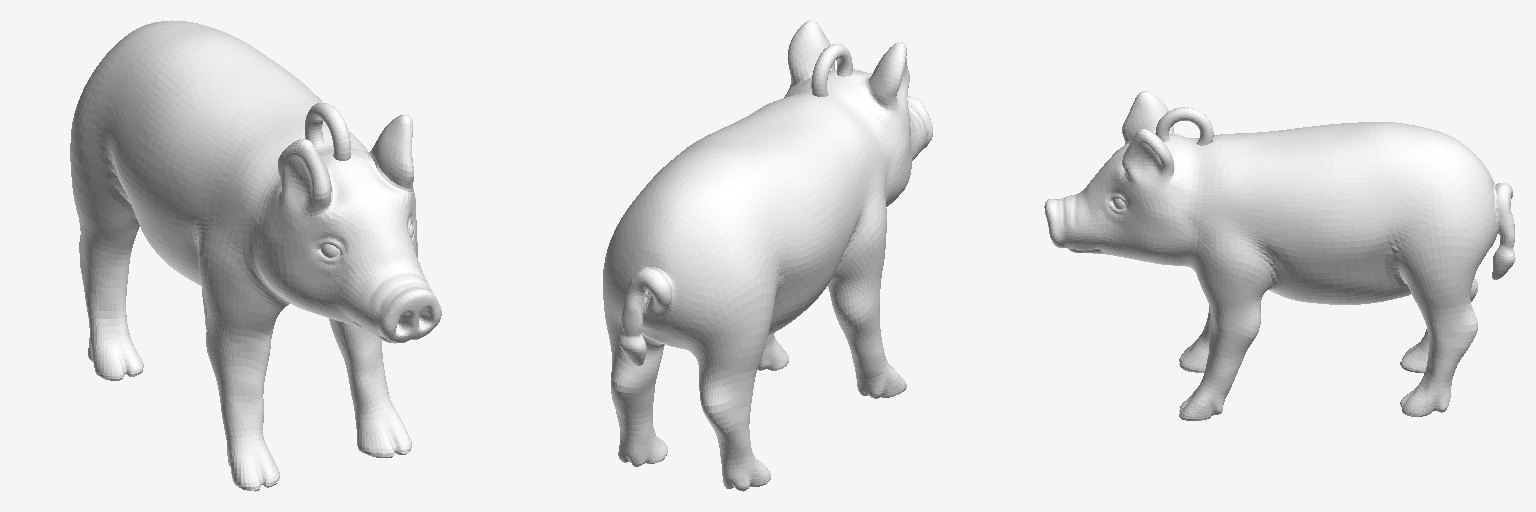
URDF robot description (simple_pig2.obj):
<robot name="simple_pig2.obj">
	<link name="_name">
		<visual>
			<origin xyz="0 0 0" rpy="0 0 0" />
			<geometry>
				<mesh filename="simple_pig2.obj" scale="1.0 1.0 1.0" />
			</geometry>
			<material name="texture">
				<color rgba="1.0 1.0 1.0 1.0" />
			</material>
		</visual>
		<collision>
			<geometry>
				<mesh filename="simple_pig2_vhacd.obj" scale="1.0 1.0 1.0" />
			</geometry>
		</collision>
		<inertial>
			<mass value="1.0" />
			<inertia ixx="1.0" ixy="0.0" ixz="0.0" iyy="1.0" iyz="0.0" izz="1.0" />
		</inertial>
	</link>
</robot>

--- Facts derived from the render (not from the file) ---
Views: 3 orthographic renders of the robot side by side, from view 1: azimuth 30°, elevation 25°; view 2: azimuth 150°, elevation 25°; view 3: azimuth 270°, elevation 25°.
Robot: simple_pig2.obj — 1 links, 0 joints (none); root link _name; default pose: all joints at 0.
Links seen in each view (by area): view 1: _name; view 2: _name; view 3: _name.
Boxes of the visible links, x1=… form: _name: x1=70, y1=20, x2=441, y2=491; _name: x1=603, y1=20, x2=932, y2=491; _name: x1=1044, y1=91, x2=1515, y2=420.
Size in the robot's own frame: 2.41 by 6.95 by 4.61 metres.
1 mesh visuals loaded from 1 distinct referenced files (1 OBJ).